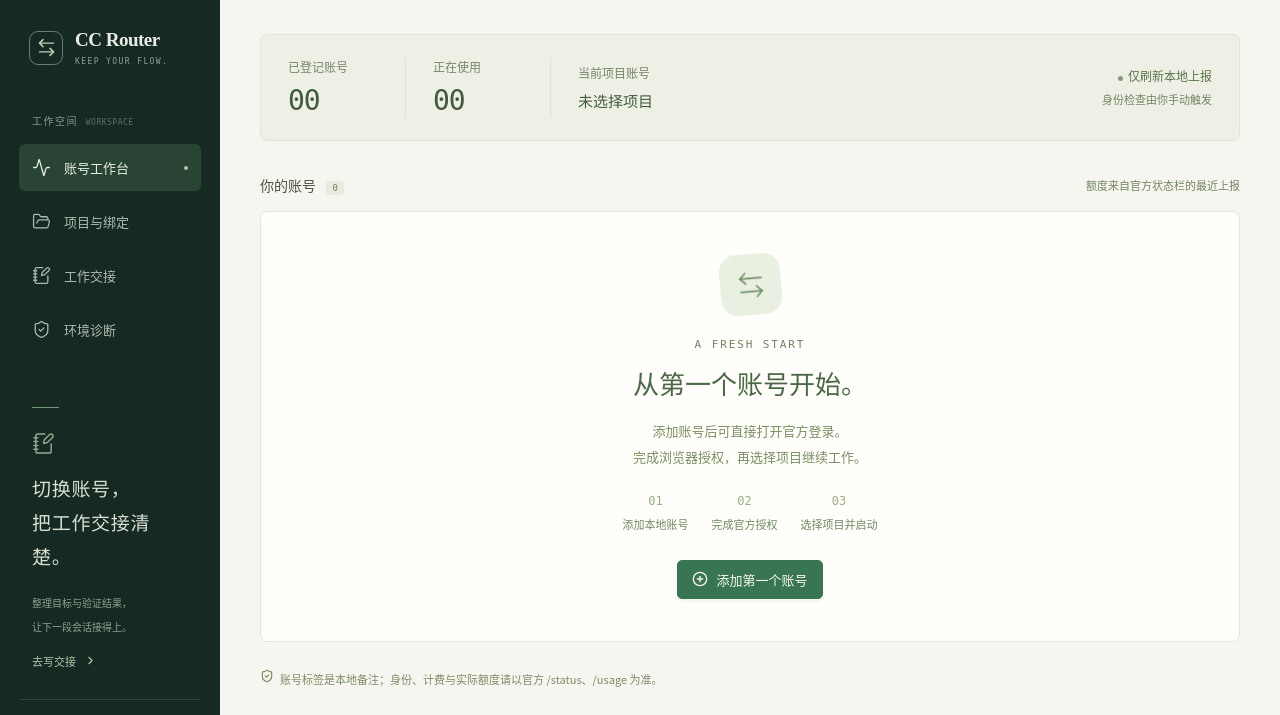
first login workflow › creates an account then opens the official login without requiring a project
The width and height of the screenshot is (1280, 715).
(page scrolled)
Click the button "添加第一个账号": [750, 579] box [678,560,822,599]
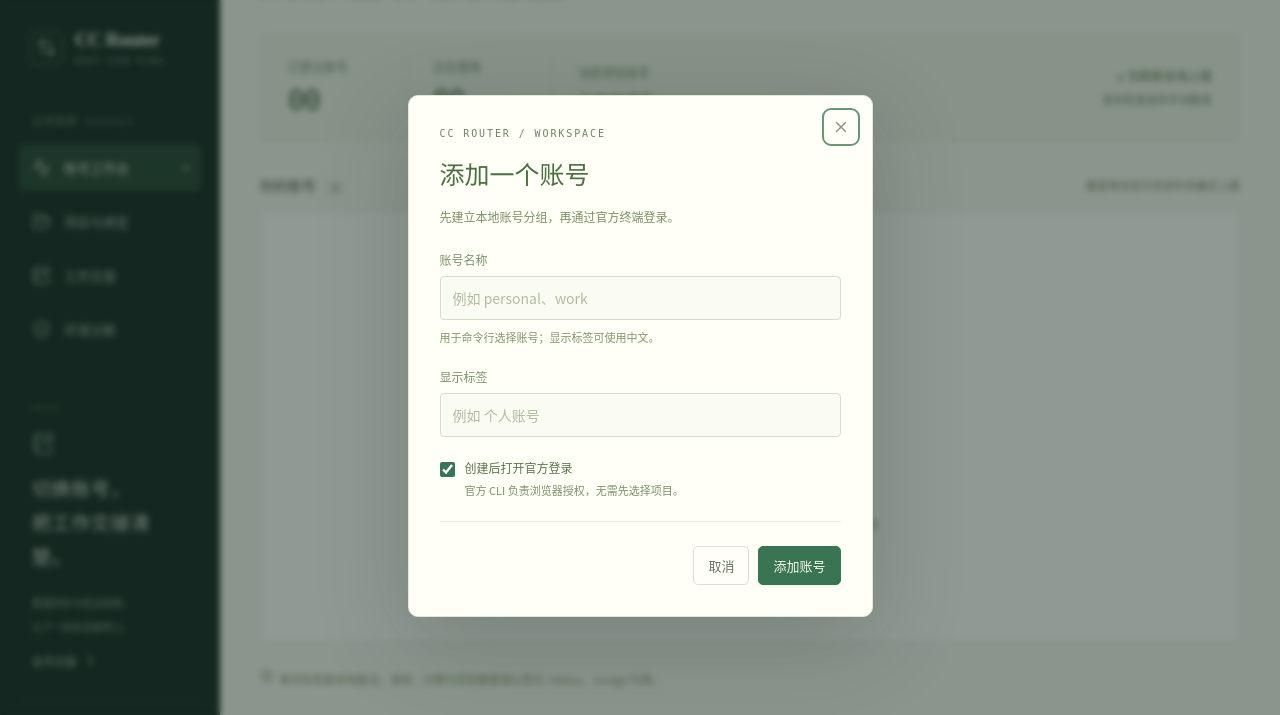
In the field labelled "账号名称": [640, 298] box [440,276,840,320], type "personal"
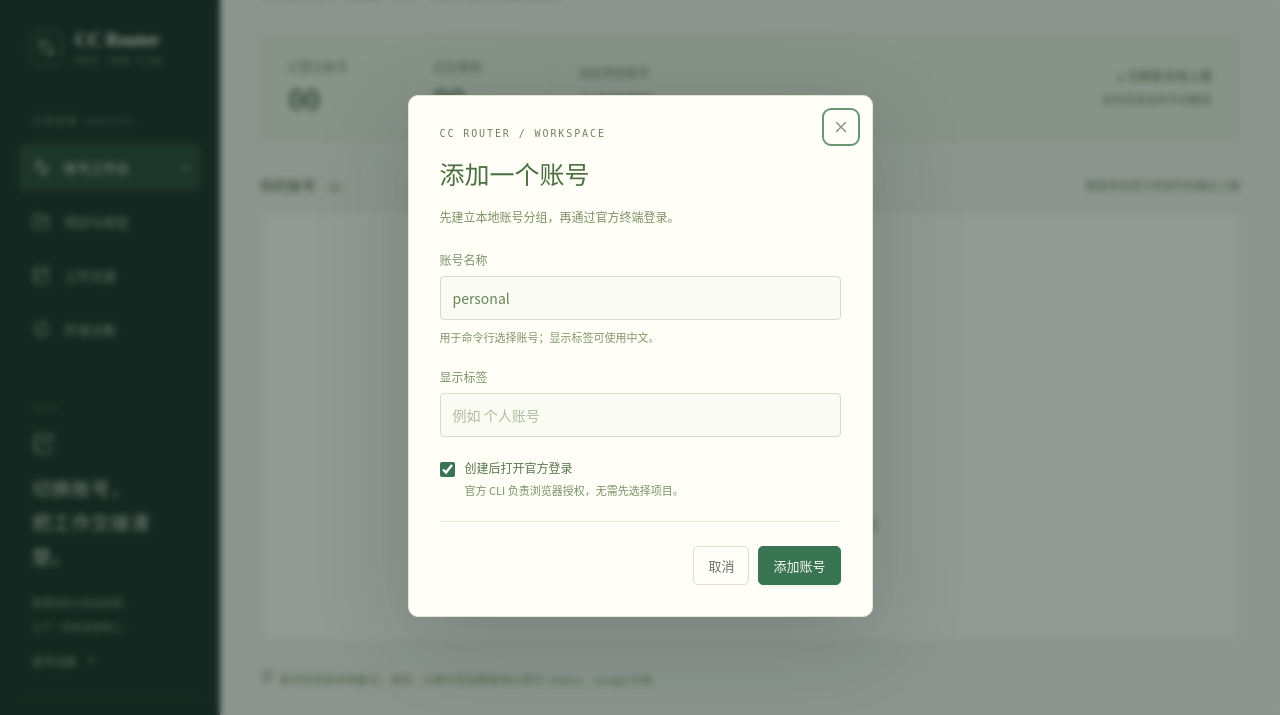
Click the button "添加账号": [800, 565] box [758,546,840,585]
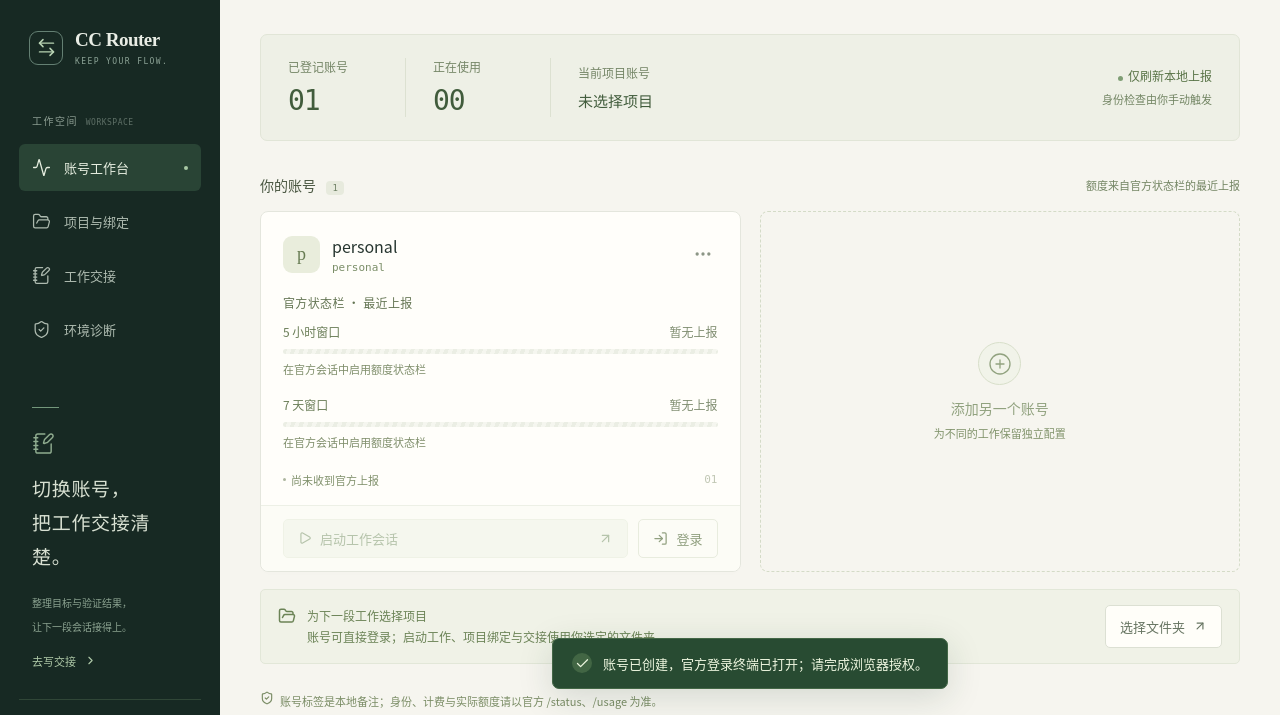
Expected: the button "登录" is enabled, [638,519,718,558]
Expected: the dialog is gone
Expected: the heading "personal" is shown, [332,234,397,258]
